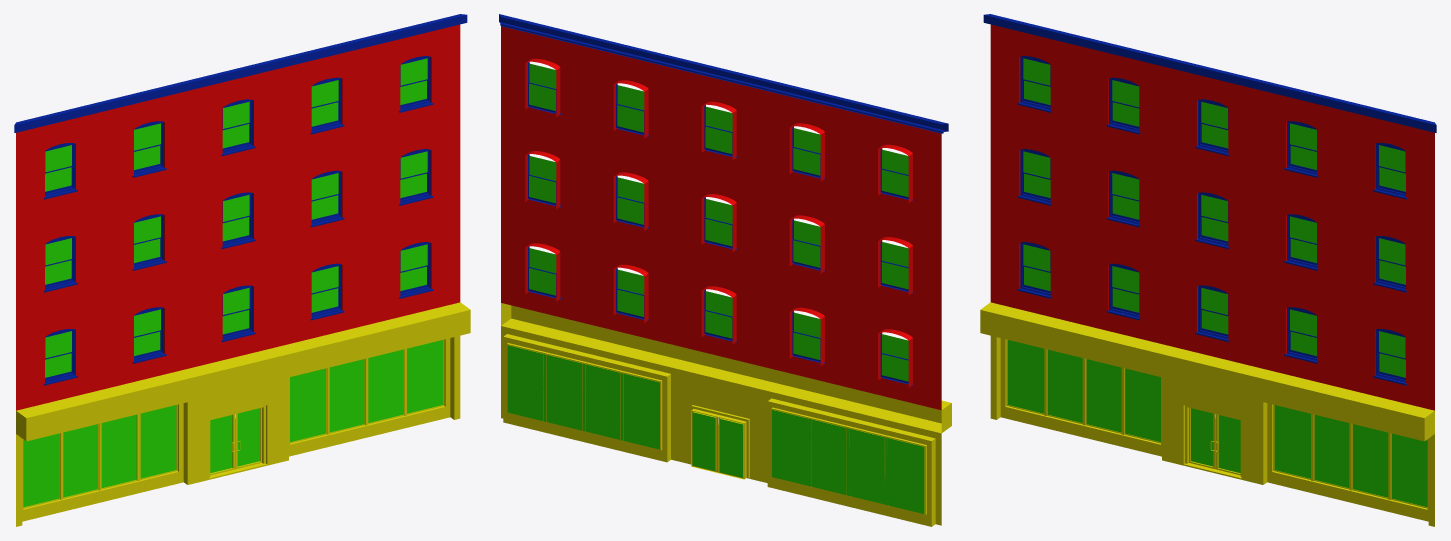
The model's file is MDL_U_B2_V2_Front.fbx.
The picture shows the model from 3 angles, left to right: view 1: azimuth 30°, elevation 25°; view 2: azimuth 150°, elevation 25°; view 3: azimuth 330°, elevation 25°; orthographic projection.
Parts seen in each view (by area): view 1: MDL_U_B2_V2_Front; view 2: MDL_U_B2_V2_Front; view 3: MDL_U_B2_V2_Front.
Part boxes in pixels (box(x1,y1,x2,y2)): MDL_U_B2_V2_Front: box(14, 14, 470, 526); MDL_U_B2_V2_Front: box(499, 14, 951, 526); MDL_U_B2_V2_Front: box(980, 14, 1436, 526).
Size of the model in its own units: 2040 by 1740 by 122.
